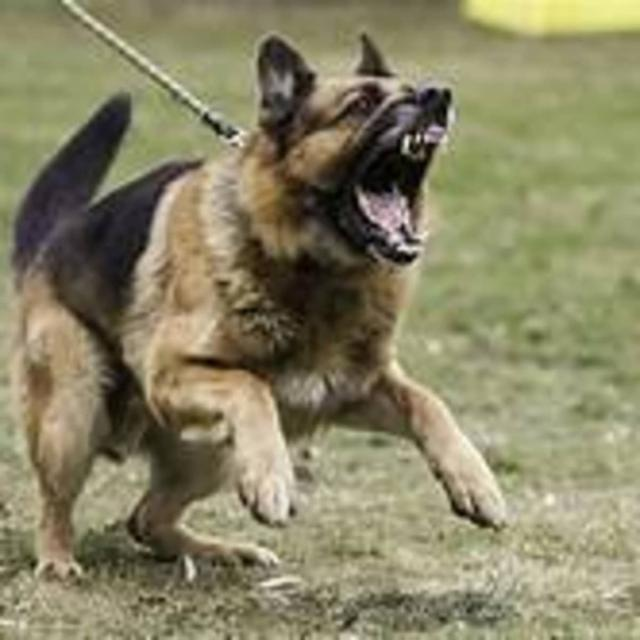angry: (14, 38, 578, 556)
